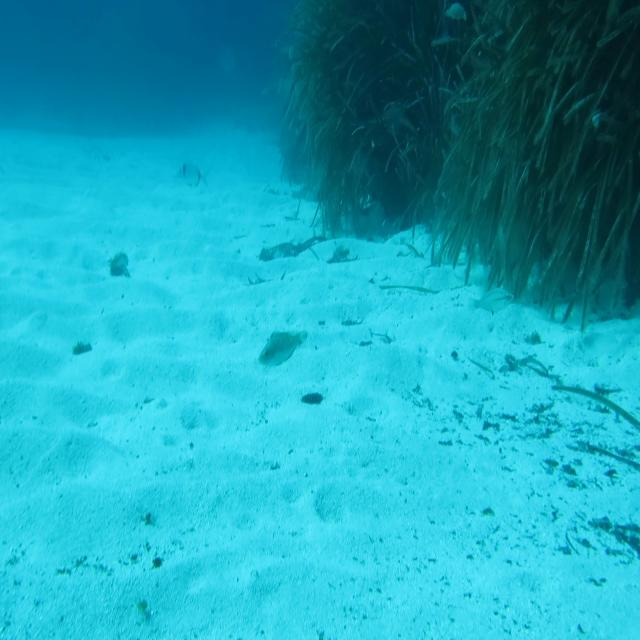BN: (256, 327, 309, 369)
female: (465, 286, 516, 317)
other_fish: (172, 159, 207, 194), (443, 0, 469, 29)
vegetation: (275, 0, 640, 317), (499, 333, 640, 479), (587, 511, 640, 562), (248, 233, 327, 261), (105, 248, 131, 281), (69, 339, 99, 360)
